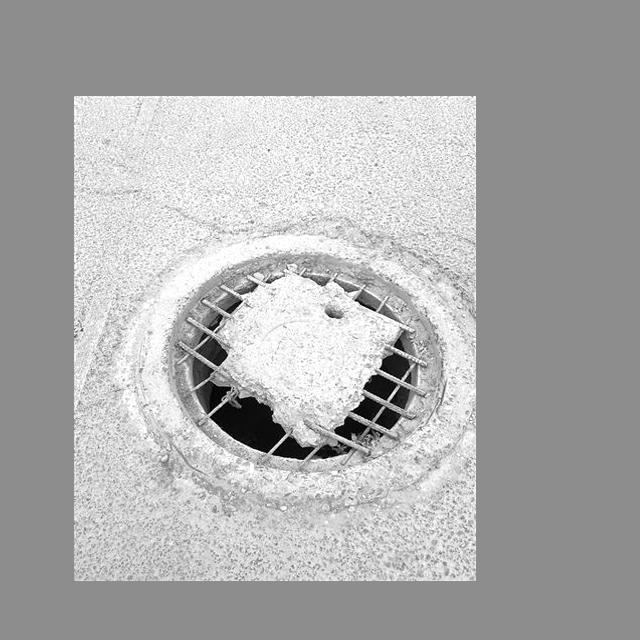broke: (149, 227, 460, 495)
